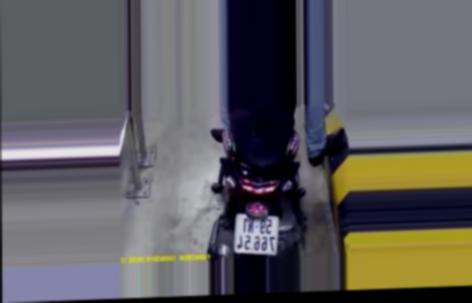License_Plate: (232, 211, 279, 257)
